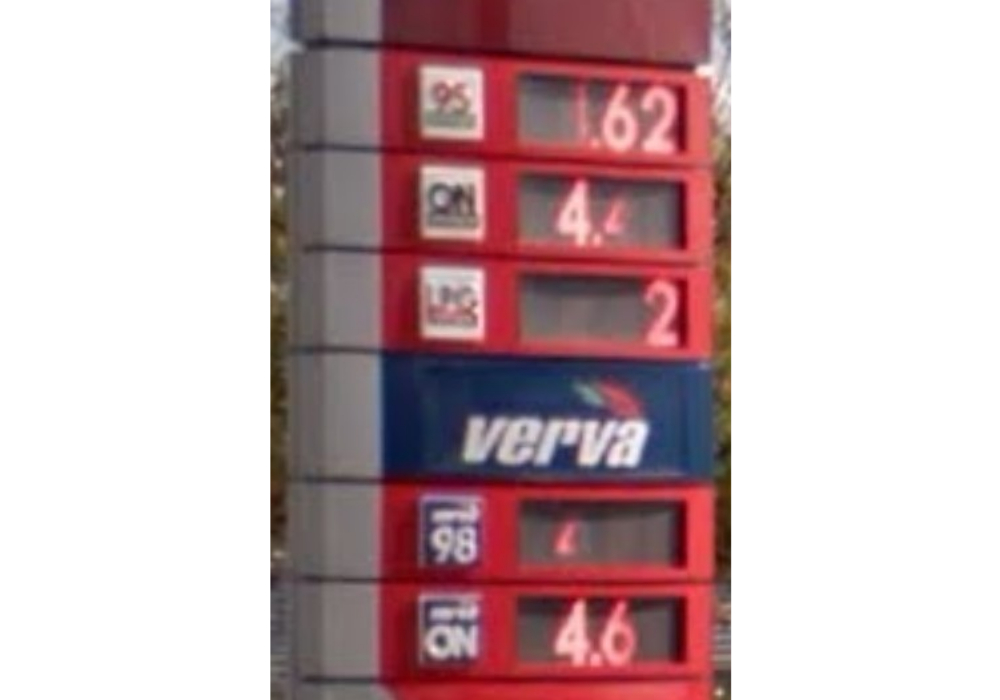ON: (414, 163, 486, 244), (419, 594, 482, 668)
PB95: (416, 62, 486, 142)
PB98: (421, 495, 482, 569)
